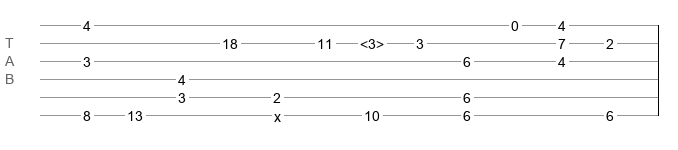0: (511, 18, 519, 28)
10: (364, 108, 380, 118)
11: (317, 36, 333, 46)
13: (127, 108, 143, 118)
18: (222, 36, 238, 46)
2: (273, 90, 281, 100), (606, 36, 614, 46)
3: (83, 54, 91, 64), (178, 90, 186, 100), (416, 36, 424, 46)
4: (83, 18, 91, 28), (178, 72, 186, 82), (558, 54, 566, 64), (558, 18, 566, 28)
6: (463, 54, 471, 64), (463, 108, 471, 118), (463, 90, 471, 100), (606, 108, 614, 118)
7: (558, 36, 566, 46)
8: (83, 108, 91, 118)
harmonic: (360, 36, 384, 46)
x: (274, 109, 281, 117)
